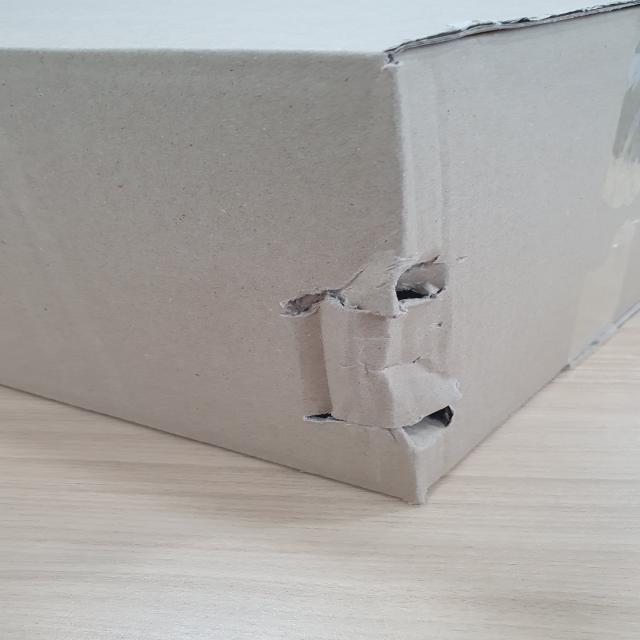hole: (362, 268, 446, 312), (394, 394, 455, 450)
